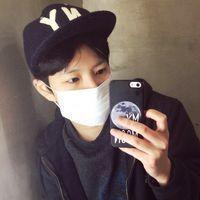OK: (51, 57, 113, 127)
